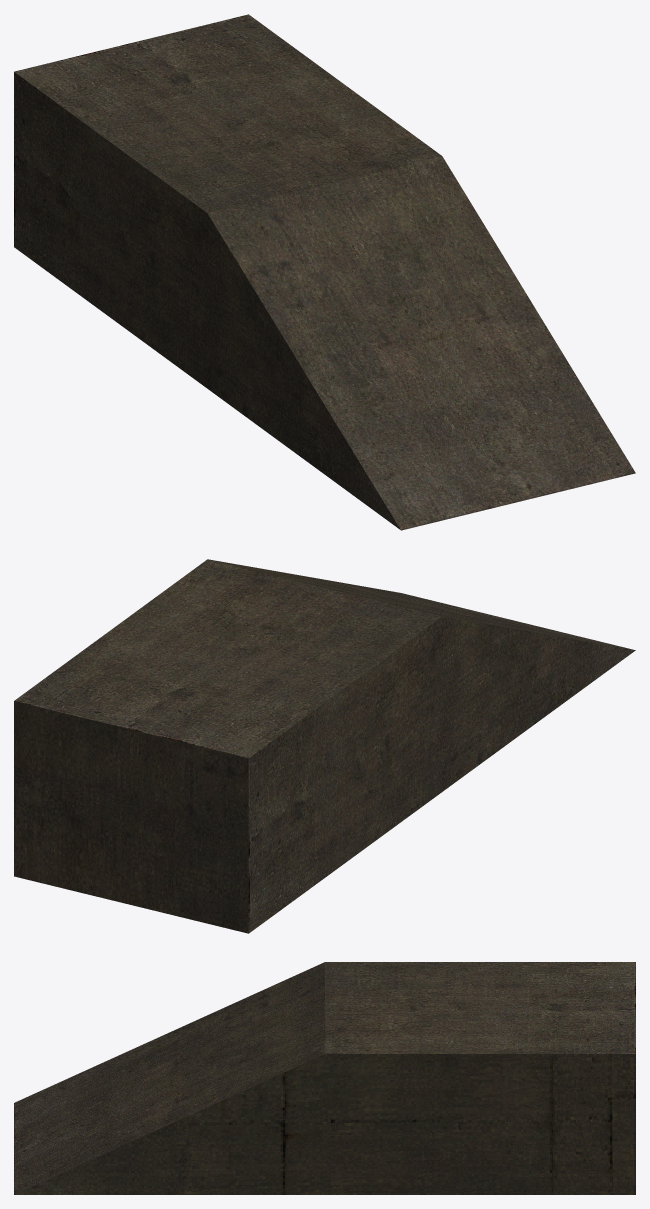
Rendered from ramp_platform_slim_mx_1.glb.
The picture shows the model from 3 angles, top to bottom: view 1: azimuth 30°, elevation 25°; view 2: azimuth 150°, elevation 25°; view 3: azimuth 270°, elevation 25°; orthographic projection. The views are drawn at different scales.
Parts seen in each view (by area): view 1: ramp_platform_slim_mx_1; view 2: ramp_platform_slim_mx_1; view 3: ramp_platform_slim_mx_1.
Part boxes in pixels (x1,y1,x2,y2): ramp_platform_slim_mx_1: (14,14,635,530); ramp_platform_slim_mx_1: (14,559,635,933); ramp_platform_slim_mx_1: (14,962,635,1194).
Size of the model in its own units: 1.4 by 1 by 4.
Materials: 2 (2 with a texture image).
